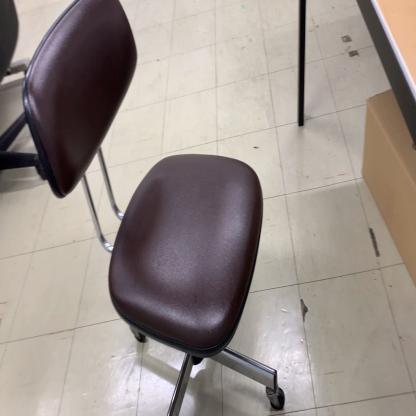chair: (21, 0, 287, 416)
